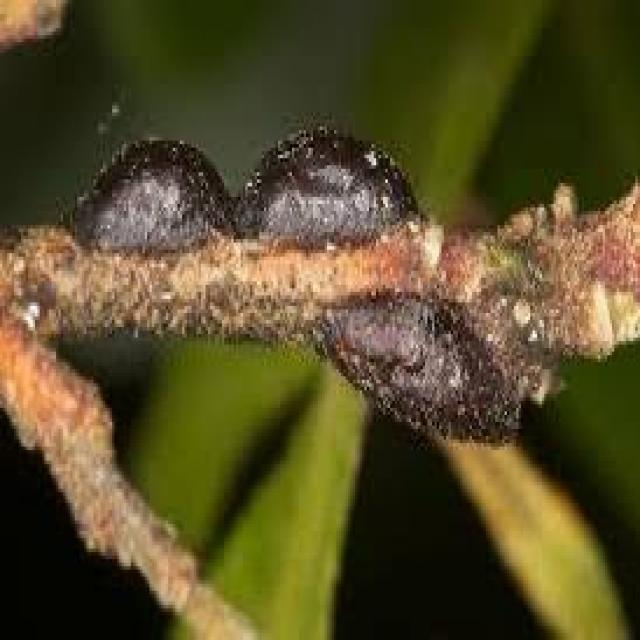BlackScale: (75, 123, 423, 246), (317, 292, 518, 439)
